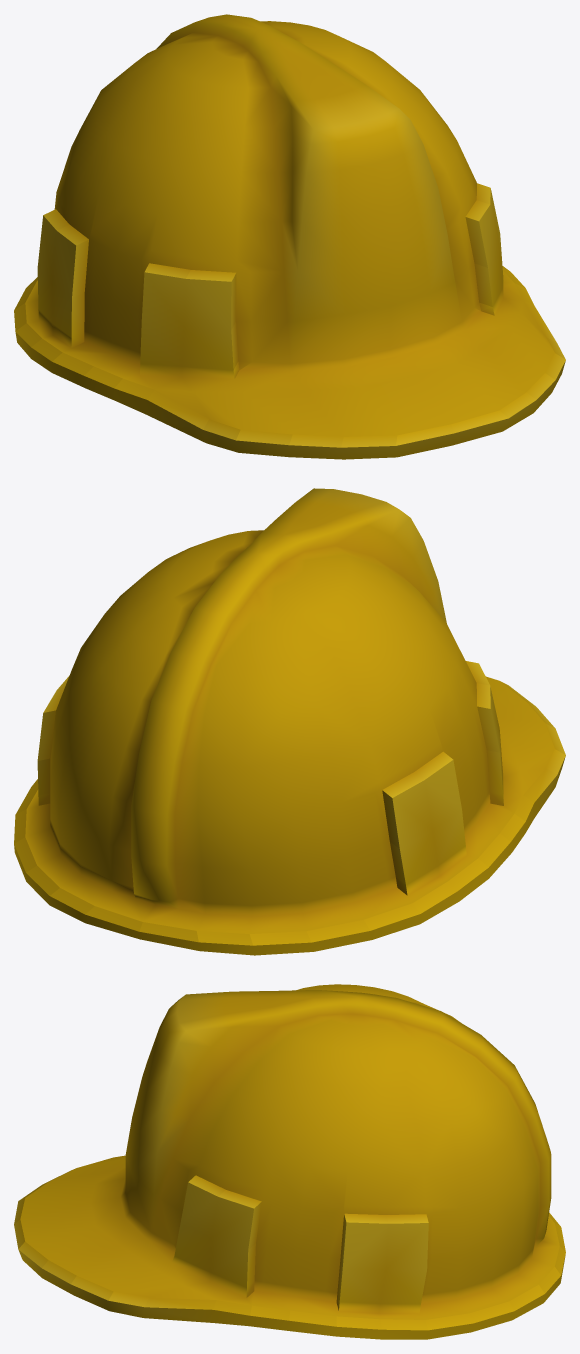
The model's file is Construction_Hat_Yellow.FBX.
The picture shows the model from 3 angles, top to bottom: view 1: azimuth 30°, elevation 25°; view 2: azimuth 150°, elevation 25°; view 3: azimuth 270°, elevation 25°; orthographic projection. The views are drawn at different scales.
Parts seen in each view (by area): view 1: Construction_Yellow; view 2: Construction_Yellow; view 3: Construction_Yellow.
Part boxes in pixels (x1,y1,x2,y2): Construction_Yellow: (14, 14, 565, 459); Construction_Yellow: (14, 488, 565, 955); Construction_Yellow: (14, 984, 565, 1339).
Bounding box in the file's own units: 58.81 × 73.5 × 38.98.
